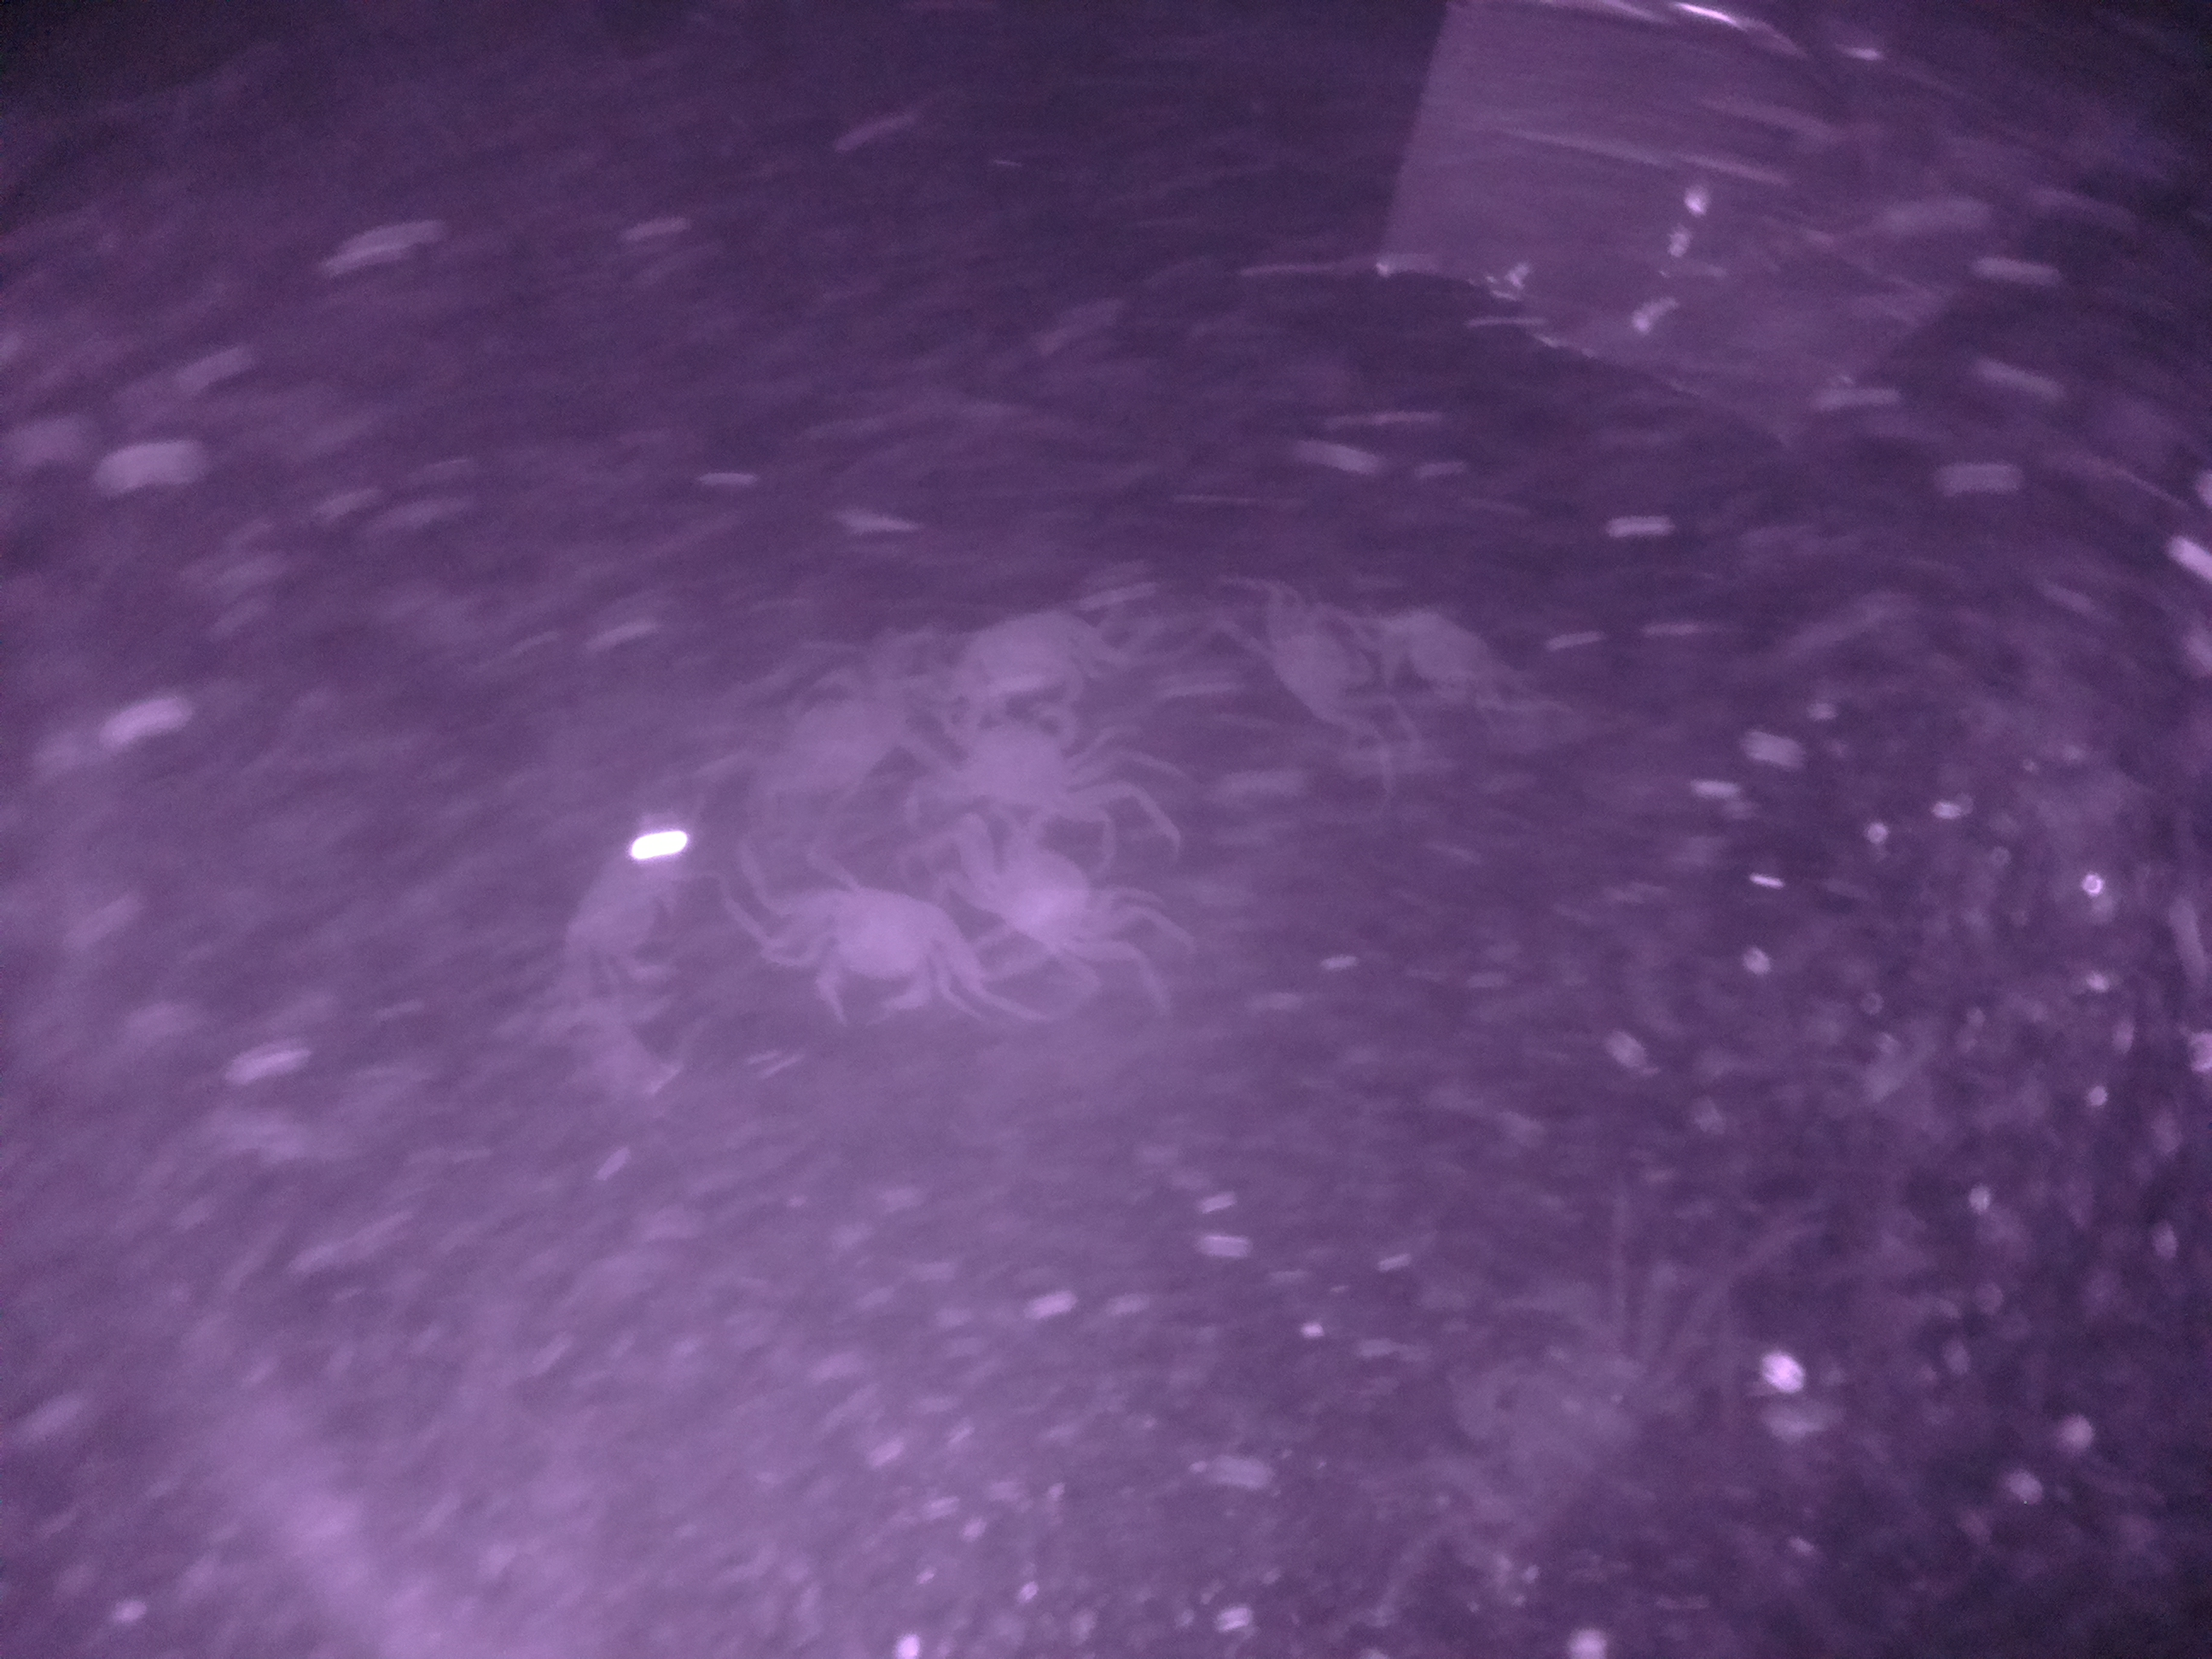Crab: (763, 859, 982, 1049)
